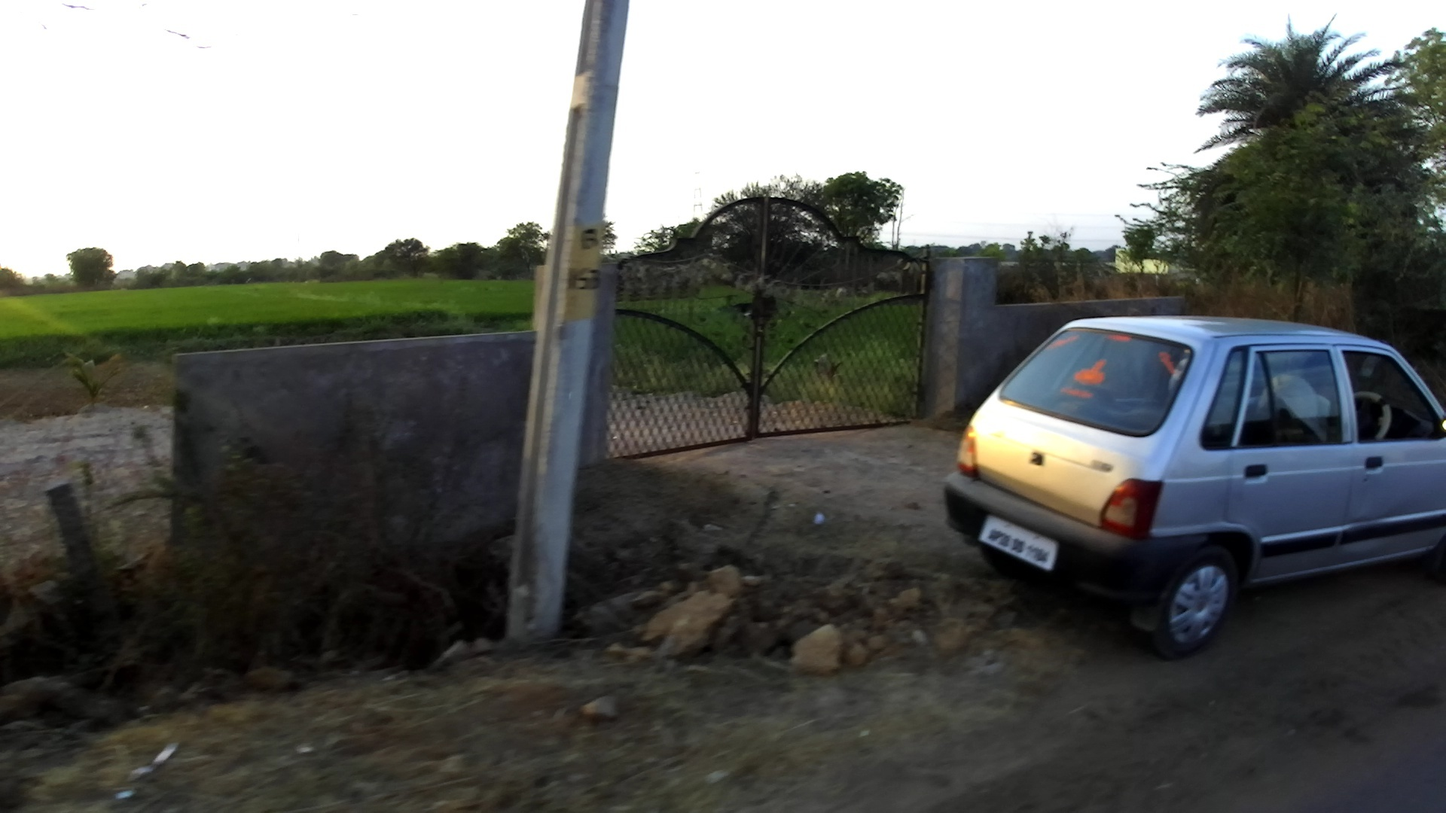car: (941, 313, 1446, 663)
